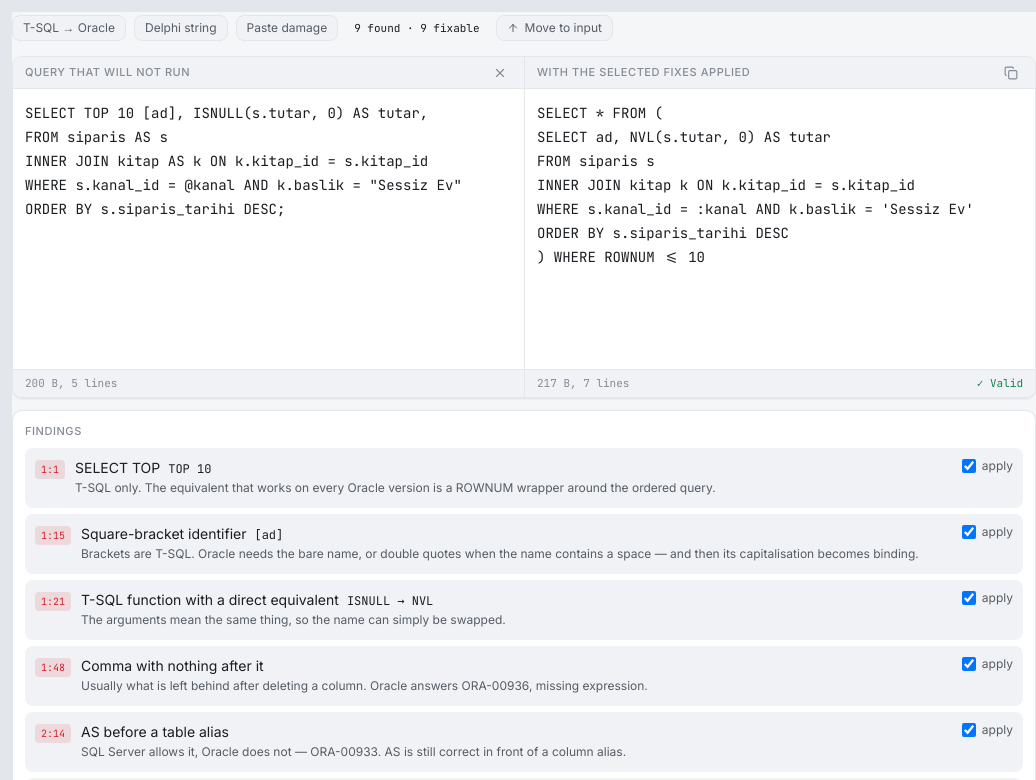
Test: SqlFixTool › yapıştırma hasarı örneğini temizler
This screenshot has width=1036, height=780.
Click the button "Paste damage".
click(287, 28)  # box [236,15,338,41]
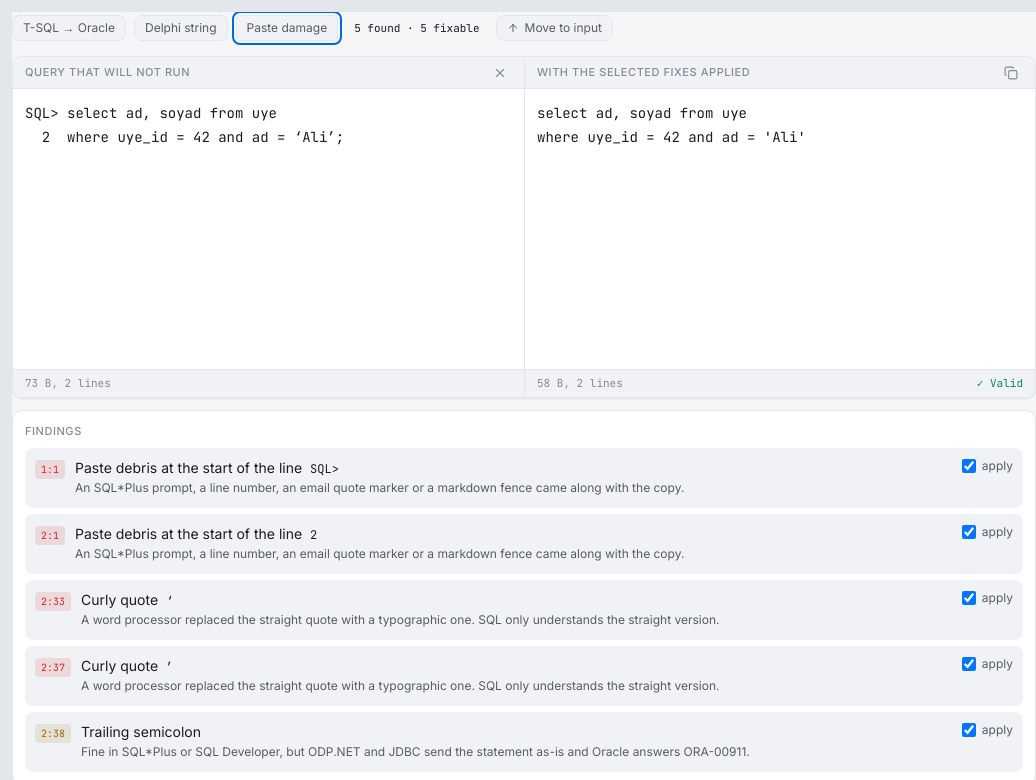
Expected: the element named "With the selected fixes" does not show "SQL>", [537,104,806,146]
Expected: the element named "With the selected fixes" shows "ad = 'Ali'", [537,104,806,146]
